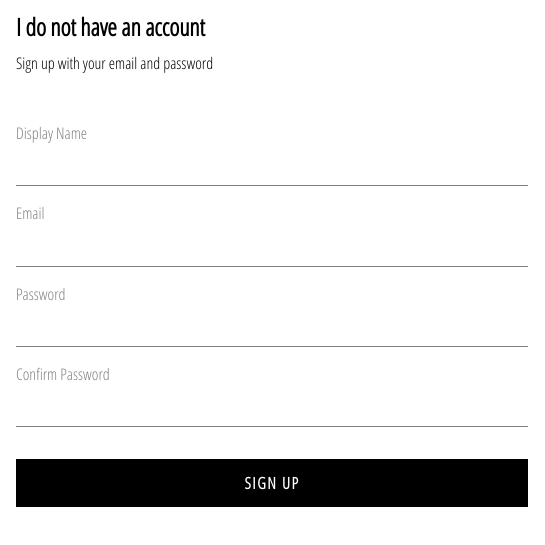
Scenario: should check if an 'Passwords do not match' error message appears
Type "Name" into the field with alt text "displayName" at (272, 165), box [16, 144, 528, 186]
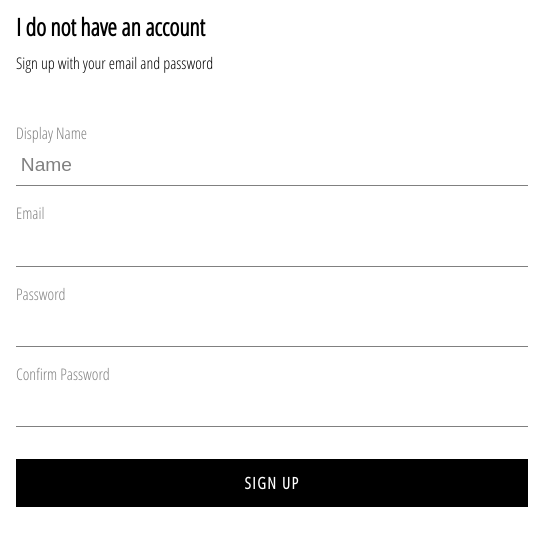
Type "orce.arsov@yasdasd.com" into the field with alt text "email" at (272, 246), box [16, 224, 528, 267]
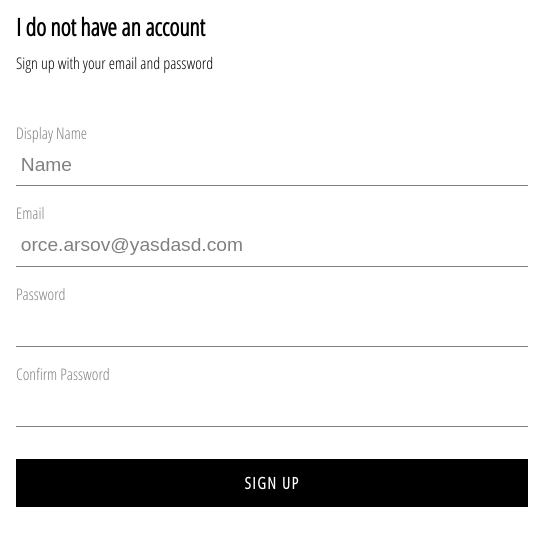
Type "whatever" into the password field with alt text "password" at (272, 326), box [16, 305, 528, 347]
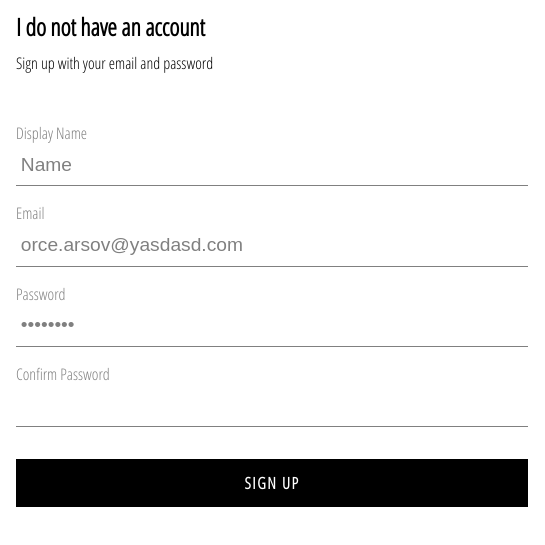
Type "whaasdasdtever2" into the password field with alt text "confirmPassword" at (272, 406), box [16, 385, 528, 427]
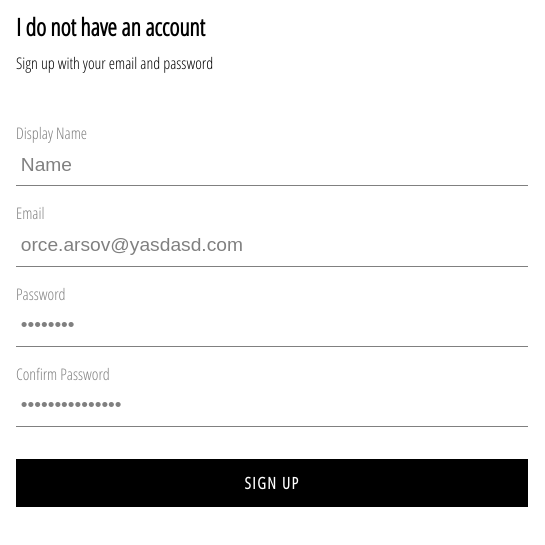
Click the button "SIGN UP" at (272, 483), box [16, 459, 528, 507]
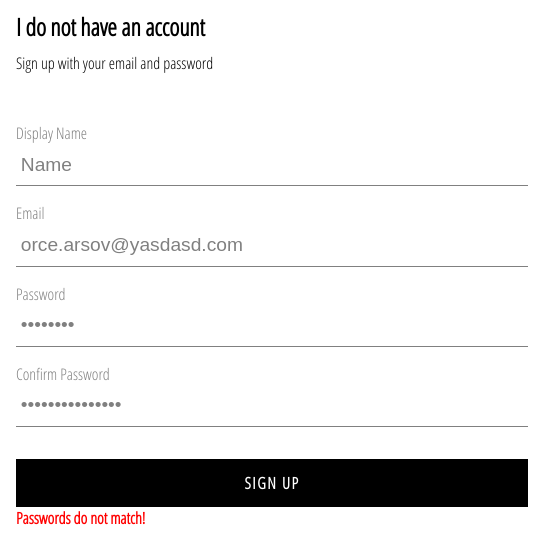
Expected: the text "Passwords do not match!" is shown, [16, 507, 145, 529]
